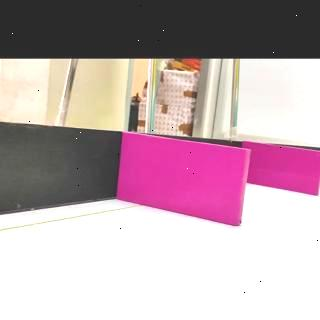xparking: (125, 148, 242, 222), (256, 152, 318, 192)
